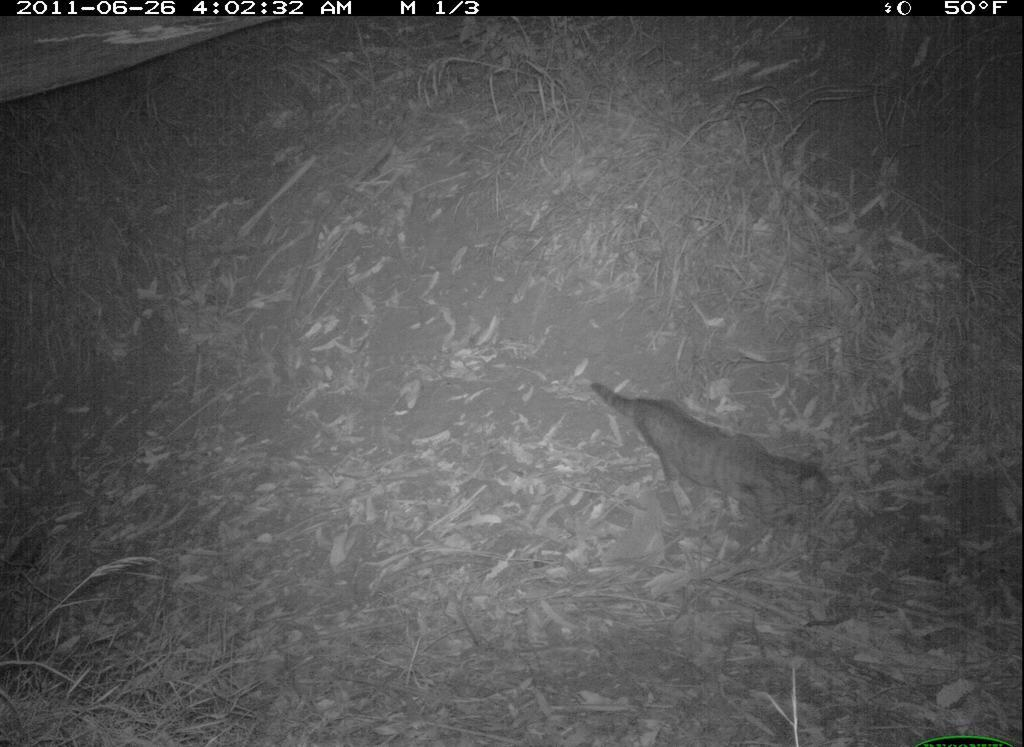cat: (585, 376, 839, 542)
